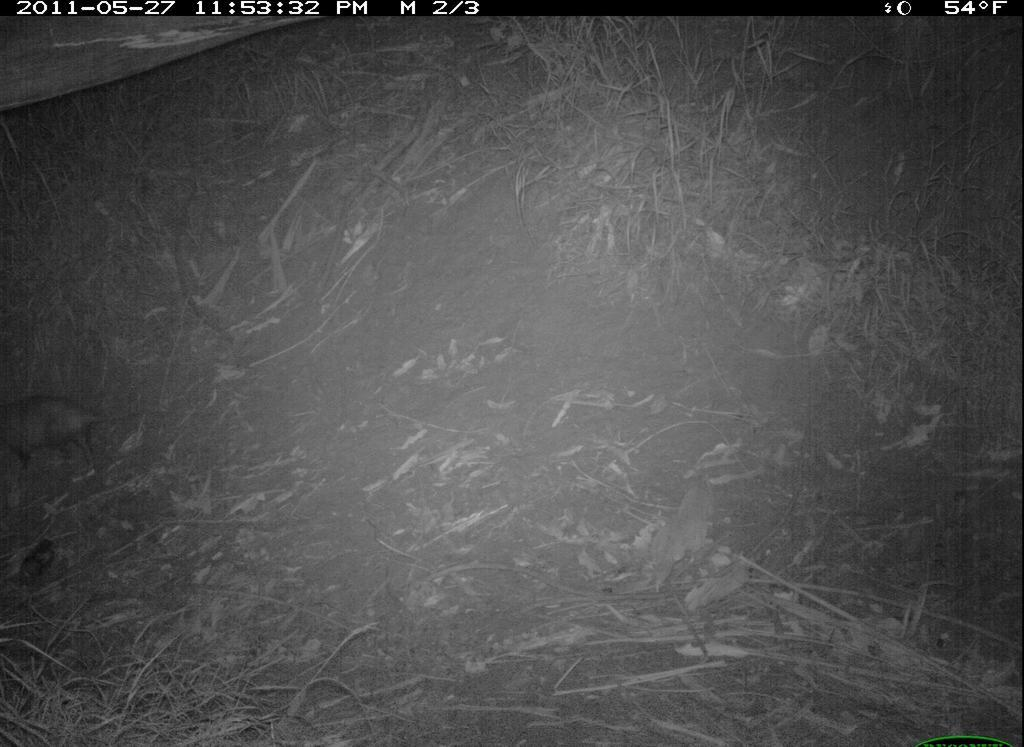opossum: (1, 385, 144, 493)
